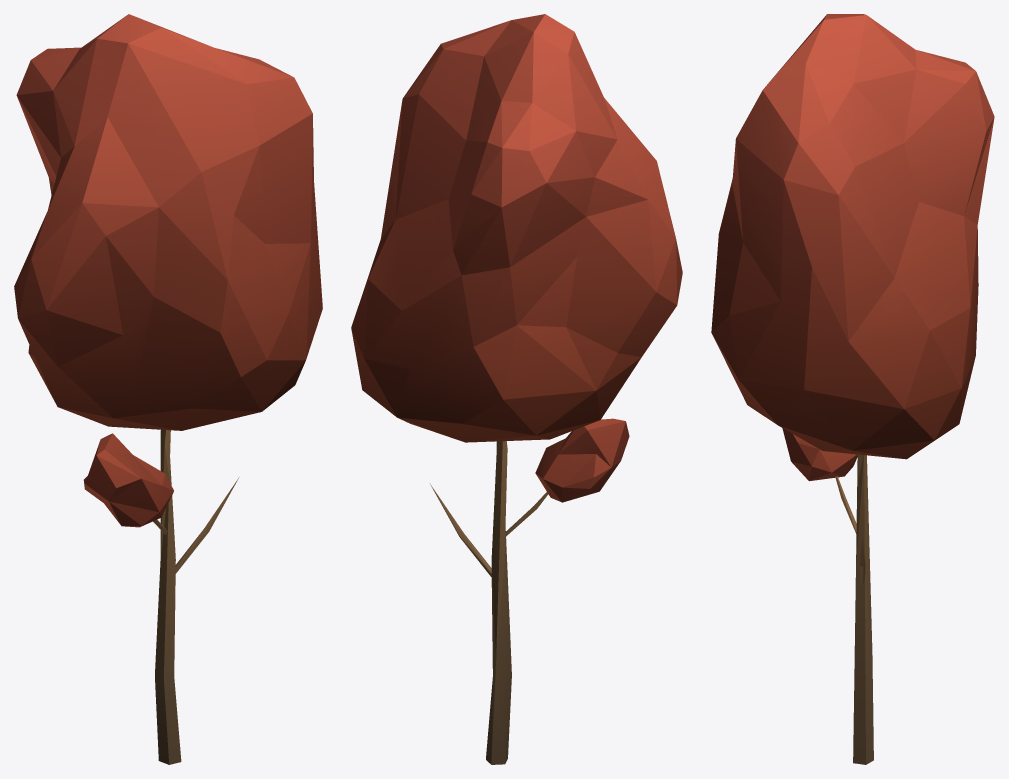
The model's file is Autumn_Tree_08.glb.
3 views of the same model, side by side, from view 1: azimuth 30°, elevation 25°; view 2: azimuth 150°, elevation 25°; view 3: azimuth 270°, elevation 25° (orthographic). The views are drawn at different scales.
Parts seen in each view (by area): view 1: Autumn_Tree_08_LOD0; view 2: Autumn_Tree_08_LOD0; view 3: Autumn_Tree_08_LOD0.
Part boxes in pixels (x1,y1,x2,y2): Autumn_Tree_08_LOD0: (14, 14, 322, 764); Autumn_Tree_08_LOD0: (351, 14, 682, 764); Autumn_Tree_08_LOD0: (711, 14, 994, 764).
Size of what is drawn, in the model's own units: 2.71 by 6.61 by 2.34.
Materials: 1 (1 with a texture image).
